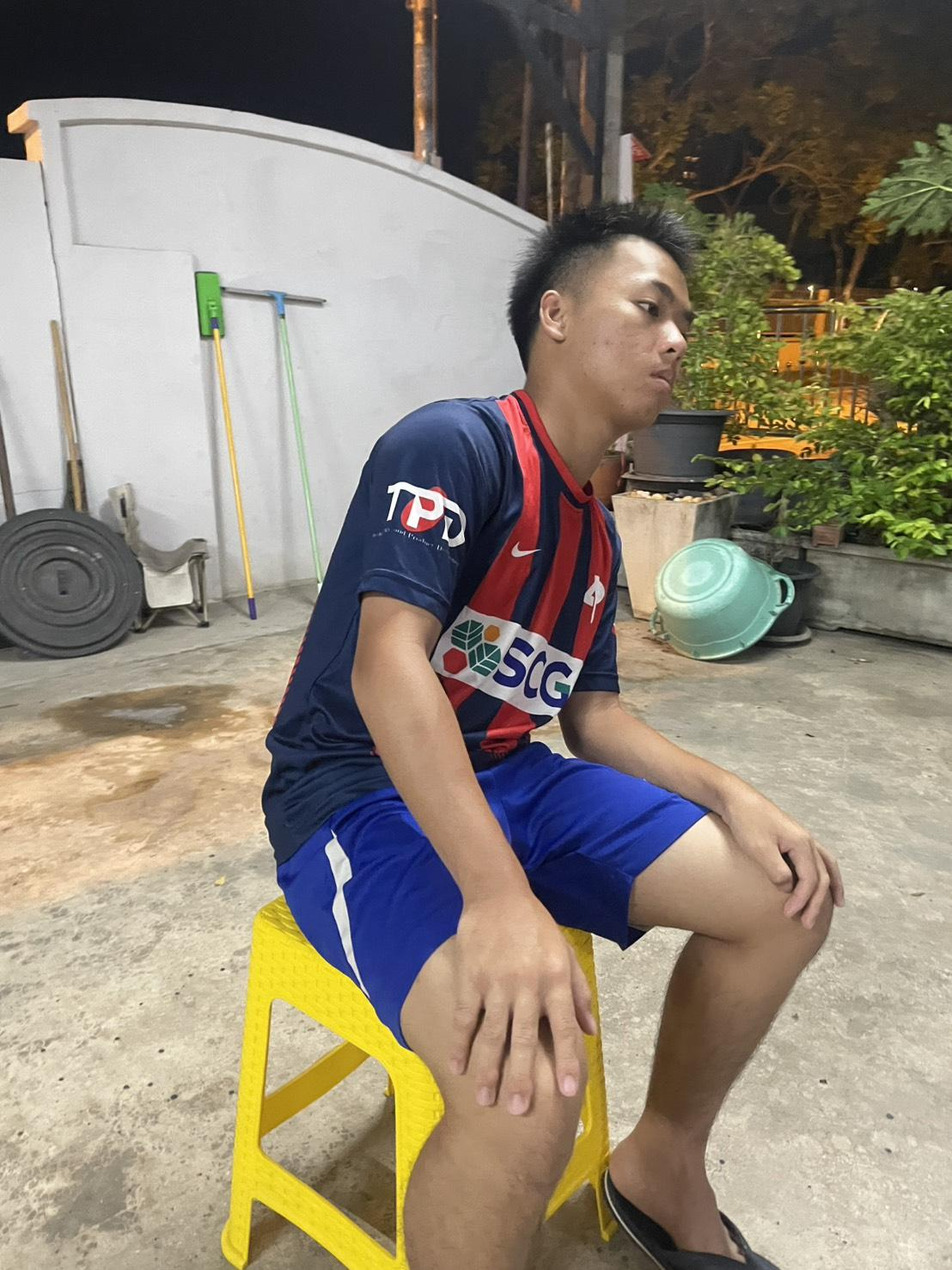BadPosture: (262, 204, 694, 896)
